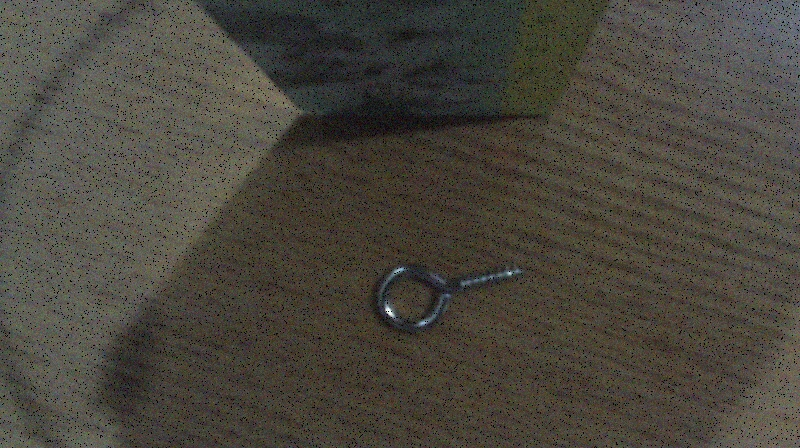O001: (369, 254, 532, 337)
